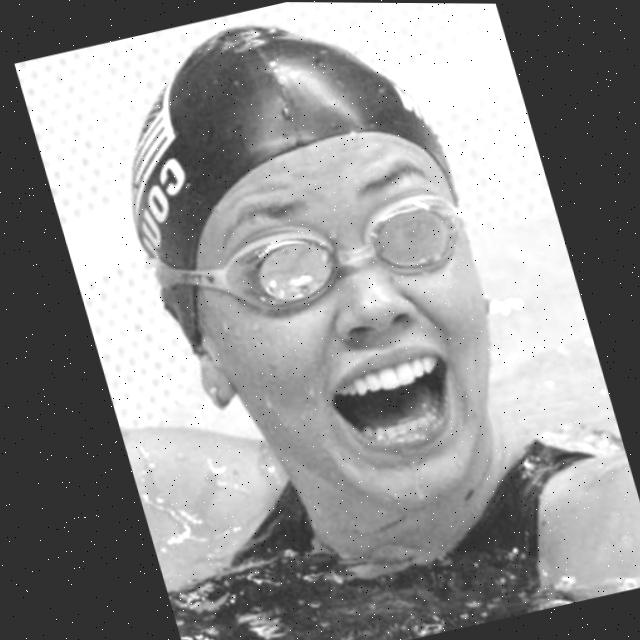face: (110, 107, 556, 572)
